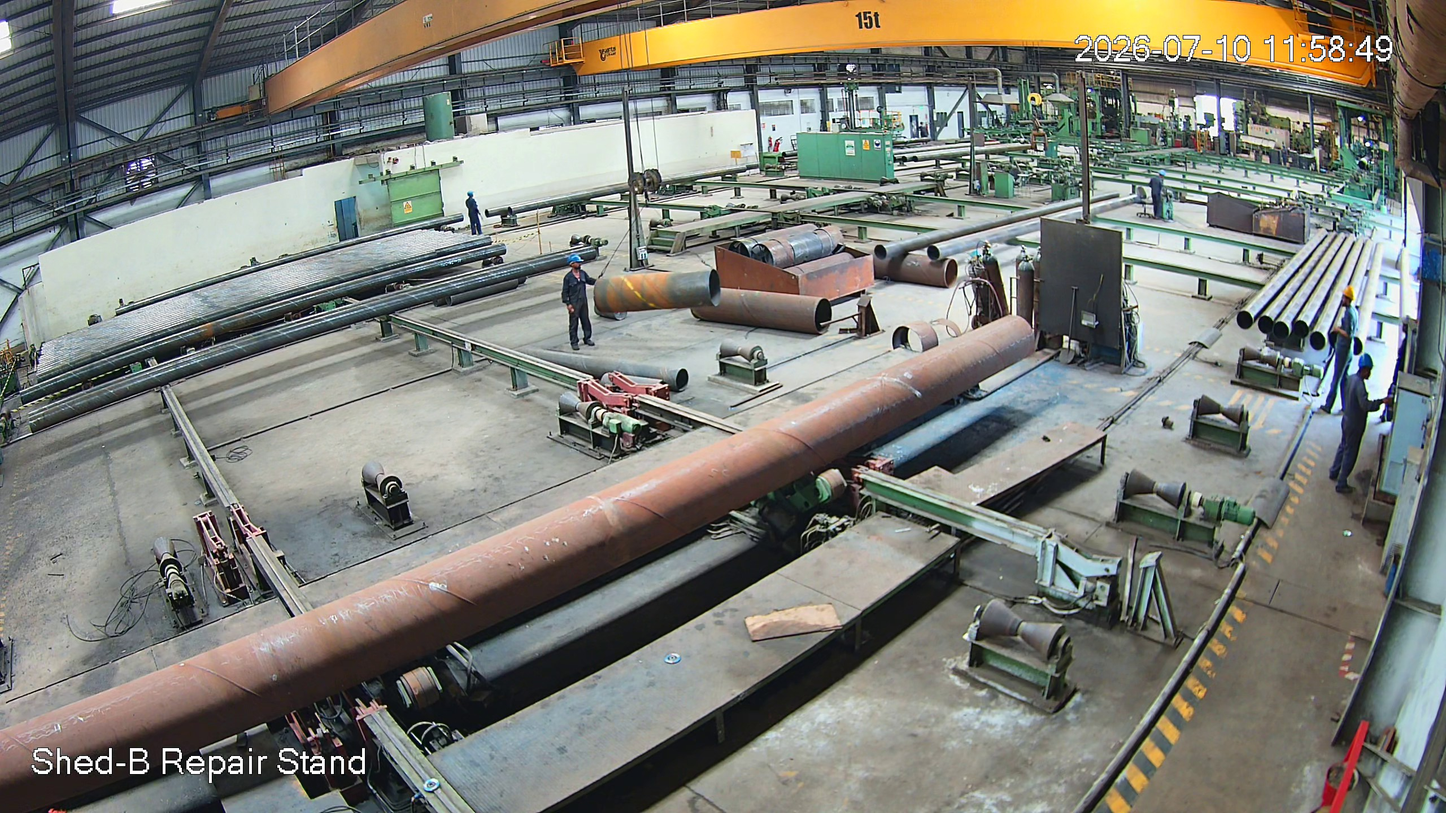Helmet: (1354, 350, 1377, 388), (1338, 282, 1359, 313), (566, 248, 586, 275), (465, 190, 477, 201)
Person: (1331, 352, 1380, 497), (1319, 284, 1363, 428), (564, 251, 590, 351), (463, 191, 485, 236)
